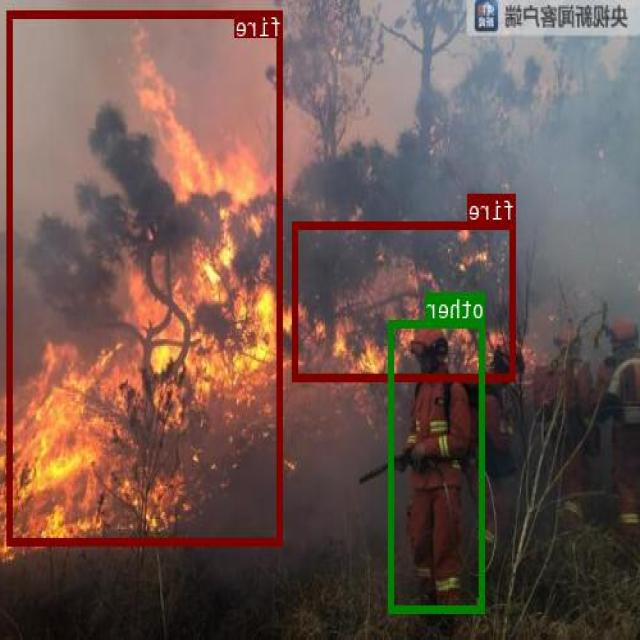fire: (8, 9, 284, 545), (293, 220, 516, 379)
other: (390, 319, 486, 612)
